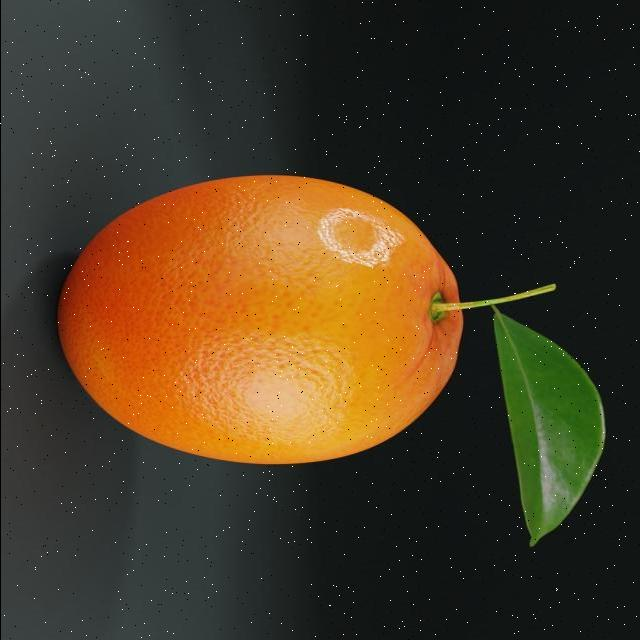Orange: (55, 172, 466, 466)
